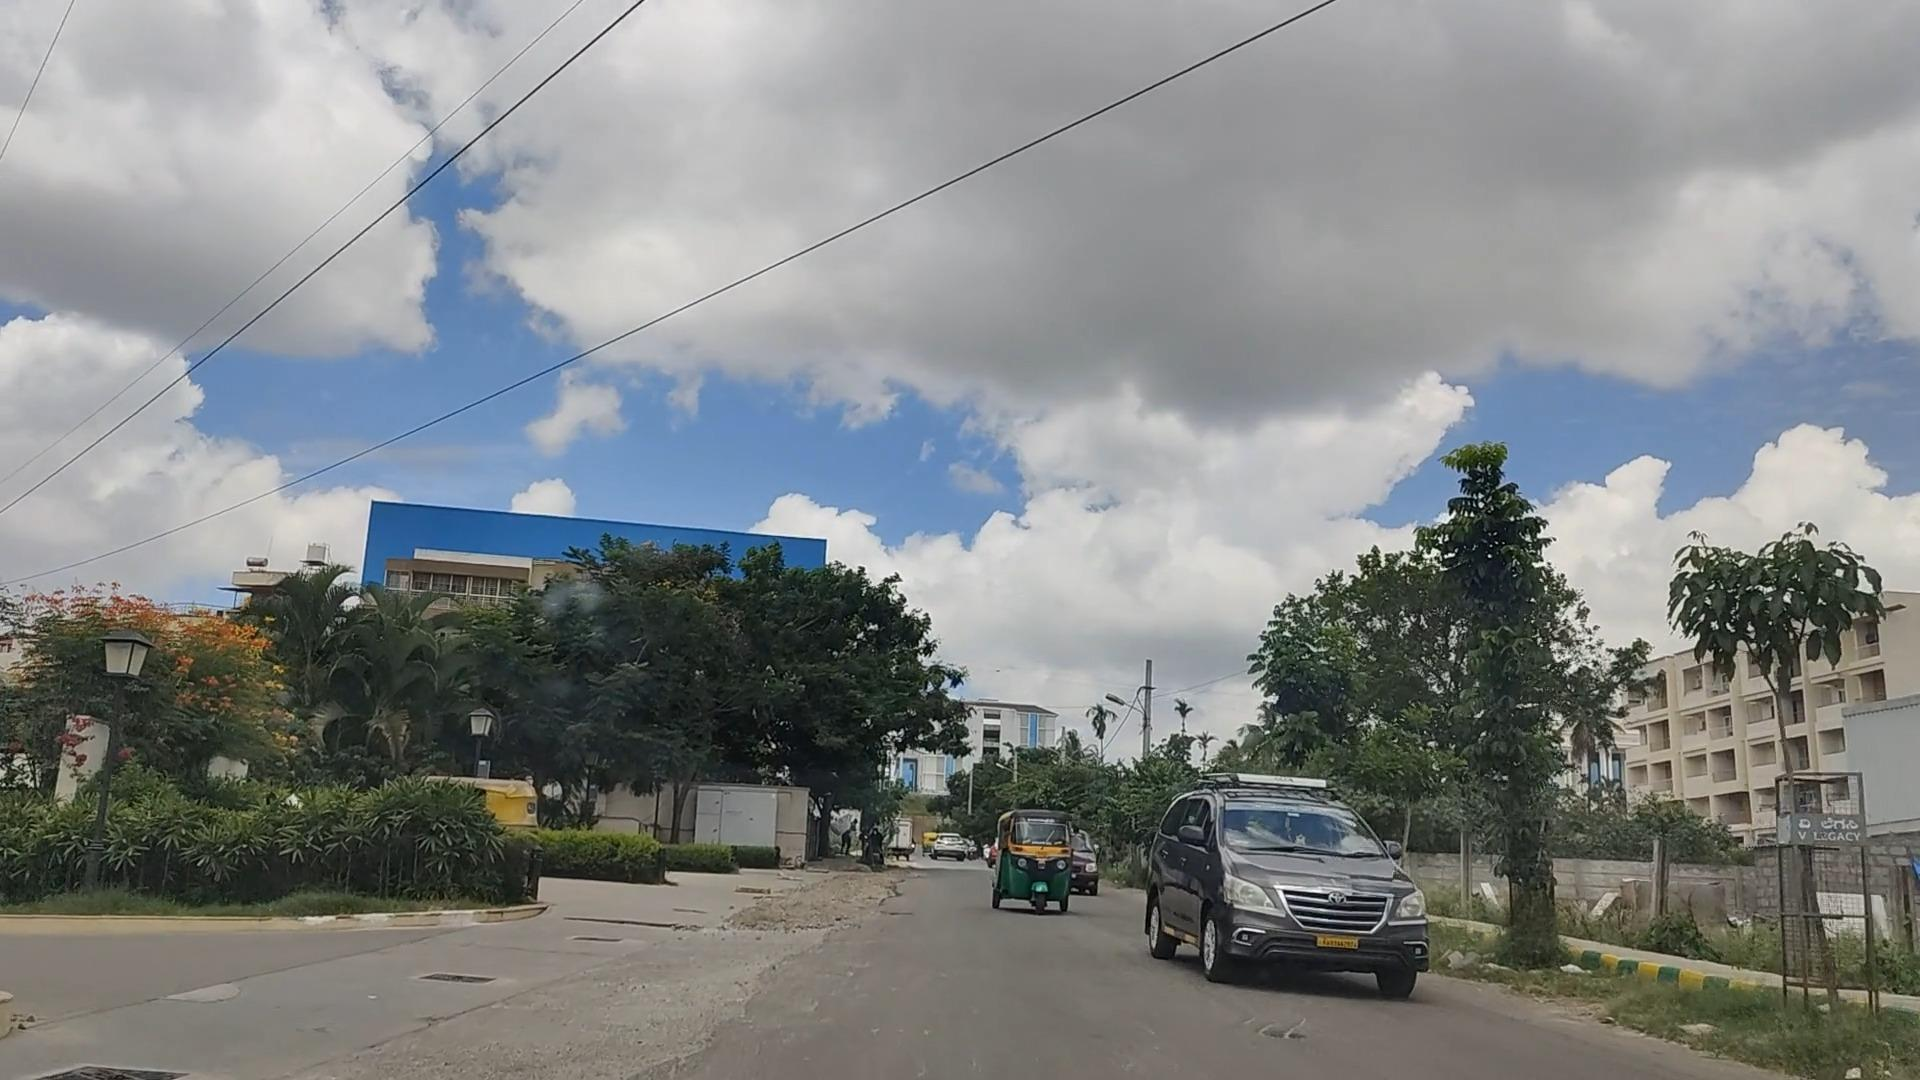RoadDamages: (589, 943, 825, 1080), (716, 869, 956, 955), (1196, 990, 1352, 1075)
